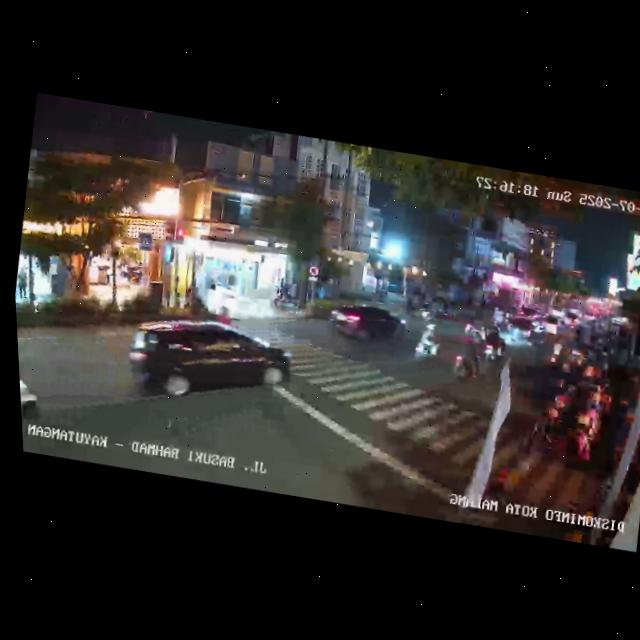car: (120, 307, 298, 420), (325, 296, 409, 350)
motorcycle: (18, 356, 48, 435), (410, 316, 445, 367), (451, 333, 487, 380), (482, 325, 511, 366)
person: (14, 268, 29, 301)
